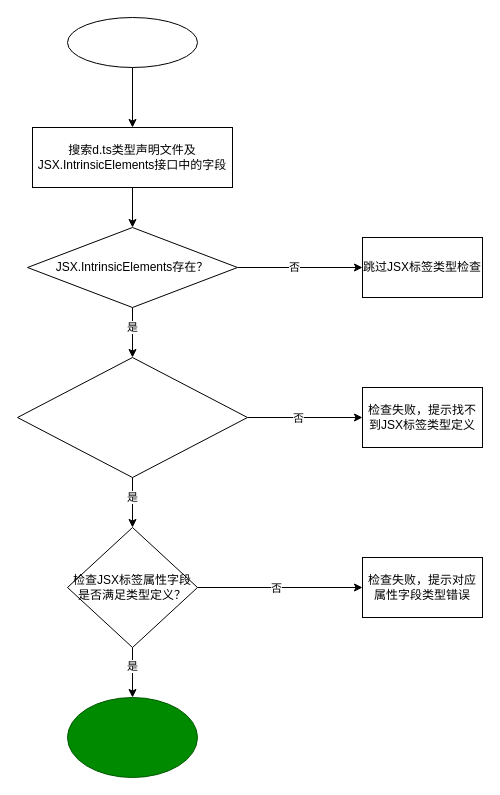
Some shapes in this 500 by 795 pixel diagram are drawn without their labels. The shapes that lost their labels are listed below. From the top down, each one's box as (x1, y1, x2, y2) in pixels, then its label:
(66, 16, 198, 68): JSX内置标签 类型检查
(16, 356, 248, 478): 检查当前JSX标签类型是否存在于JSX.IntrinsicElements接口属性中？
(66, 696, 198, 778): JSX内置标签检查通过
